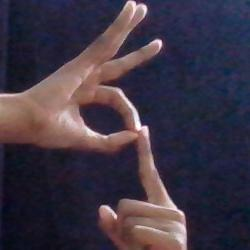P: (4, 2, 212, 245)
